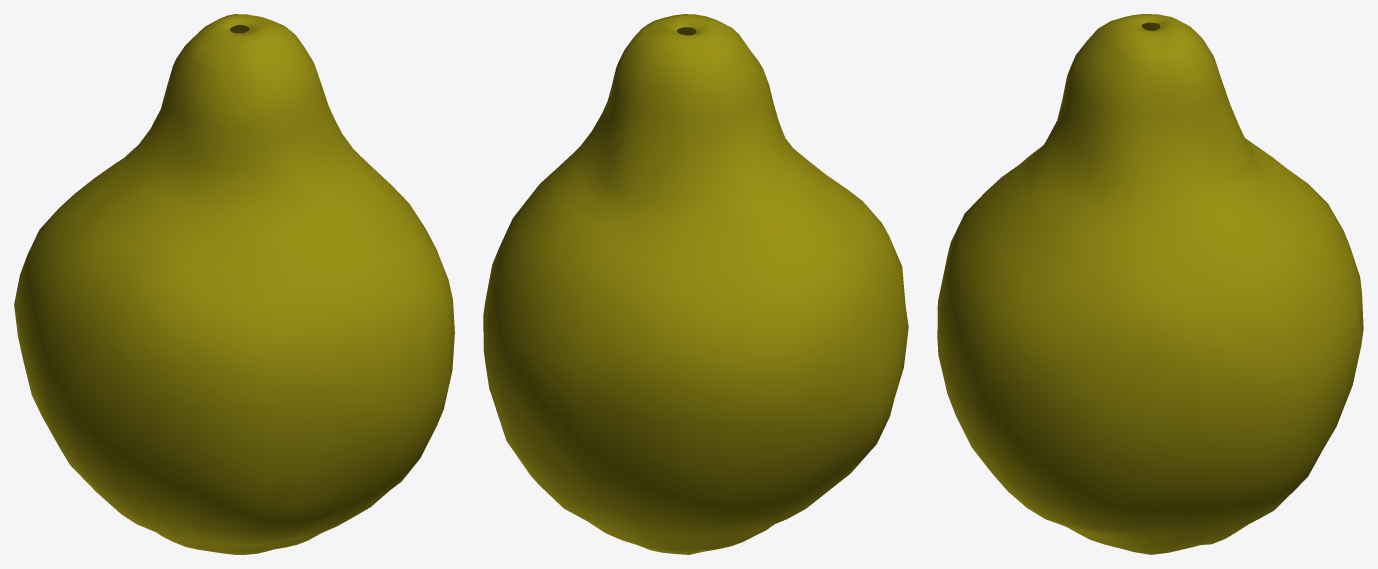
File: pear1.obj
3 views of the same model, side by side, from view 1: azimuth 30°, elevation 25°; view 2: azimuth 150°, elevation 25°; view 3: azimuth 270°, elevation 25° (orthographic).
Visible parts, largest first — view 1: pear.002_Cube.002; view 2: pear.002_Cube.002; view 3: pear.002_Cube.002.
Boxes of the visible parts, x1=… form: pear.002_Cube.002: x1=14, y1=14, x2=454, y2=554; pear.002_Cube.002: x1=483, y1=14, x2=908, y2=554; pear.002_Cube.002: x1=937, y1=14, x2=1363, y2=554.
Size of the model in its own units: 3.29 by 4.28 by 3.26.
